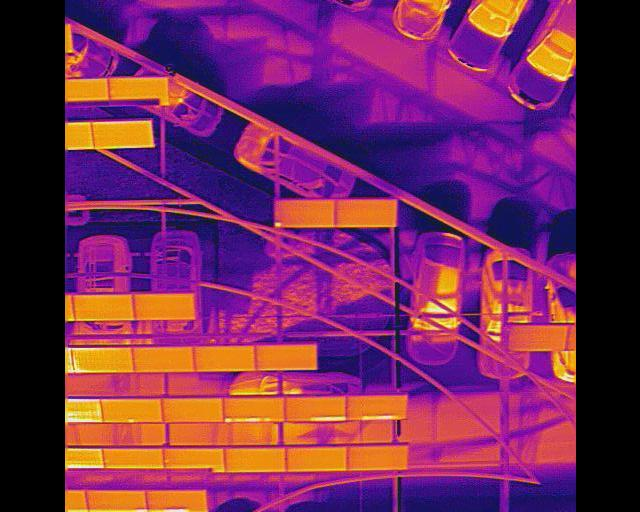Cell: (273, 200, 334, 228), (98, 398, 161, 424)
No-Anomaly: (255, 343, 317, 370), (194, 346, 255, 373), (133, 294, 194, 321), (90, 120, 151, 147), (334, 200, 396, 226), (347, 445, 408, 471), (132, 347, 193, 373), (509, 326, 568, 352), (163, 397, 224, 422), (72, 295, 133, 320), (286, 447, 346, 472), (224, 448, 285, 472), (107, 77, 167, 100), (163, 448, 222, 470), (102, 447, 161, 468)
Unclassified: (344, 394, 406, 421), (71, 348, 134, 373), (284, 397, 346, 421), (224, 398, 283, 422), (146, 490, 206, 512), (86, 490, 145, 512)
